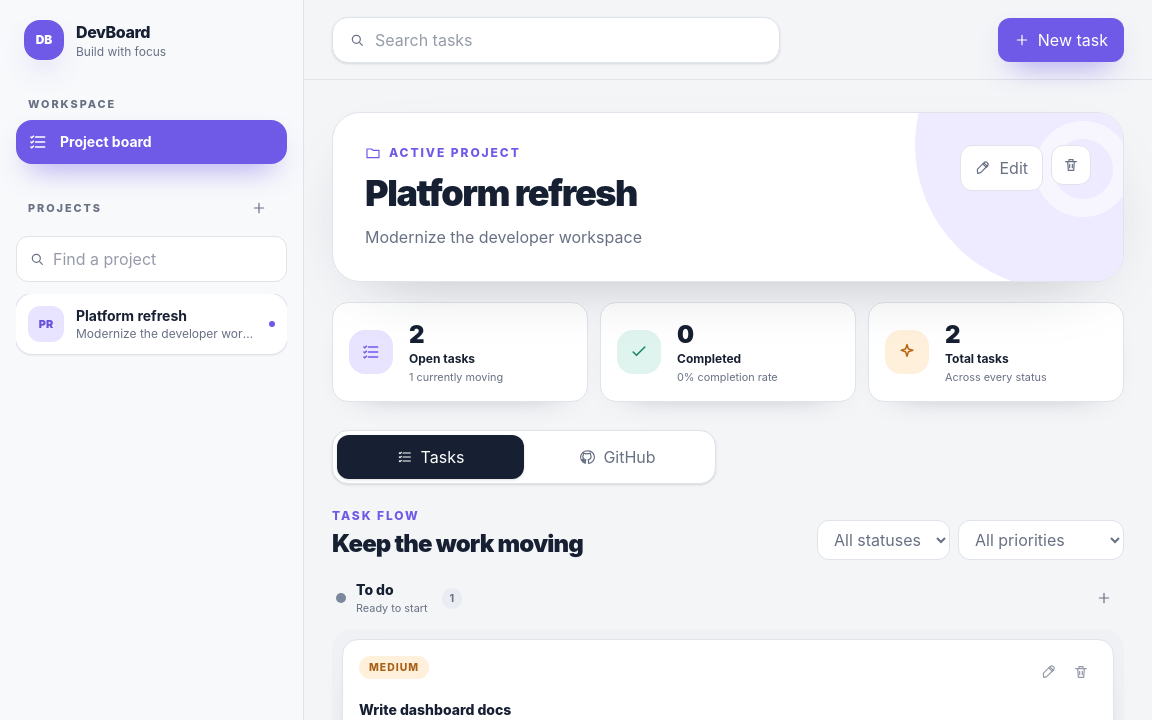
Test case: DevBoard dashboard › creates a task from the header action
The width and height of the screenshot is (1152, 720).
Expected: the heading "Platform refresh" is shown, [365,173,642,213]
Click the button "New task" at point(1061, 40), box [998,18,1124,62]
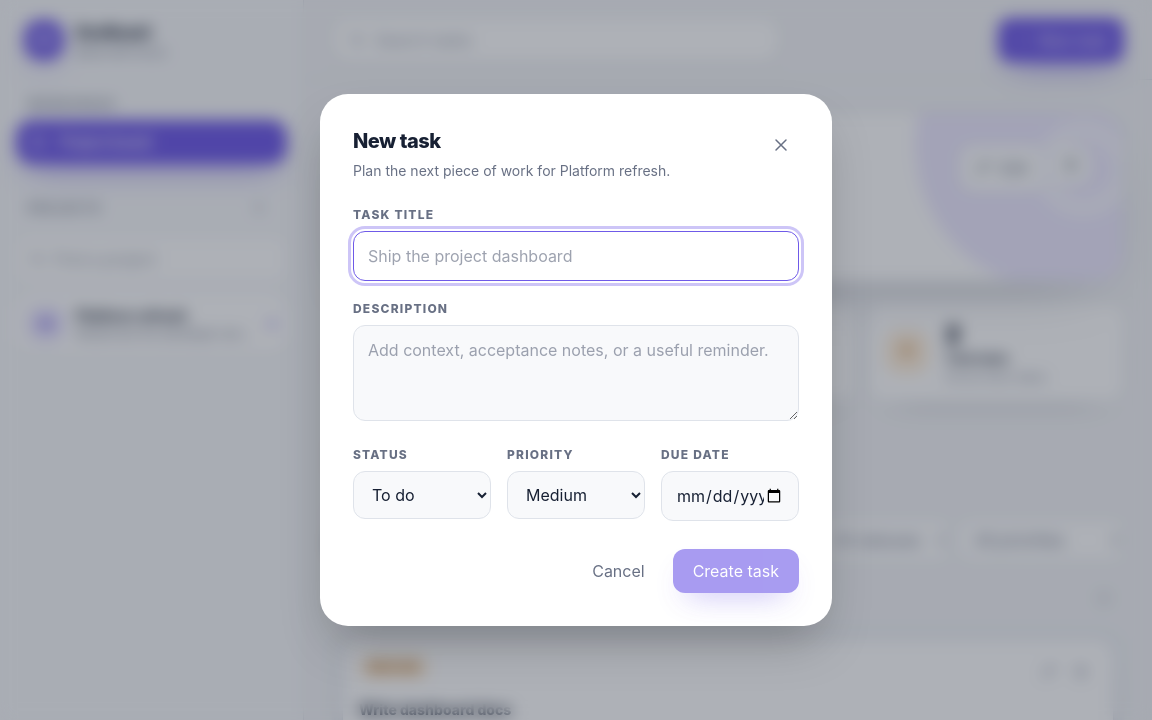
Type "Test the dashboard" into the field labelled "Task title" at point(576, 256), box [353,231,799,281]
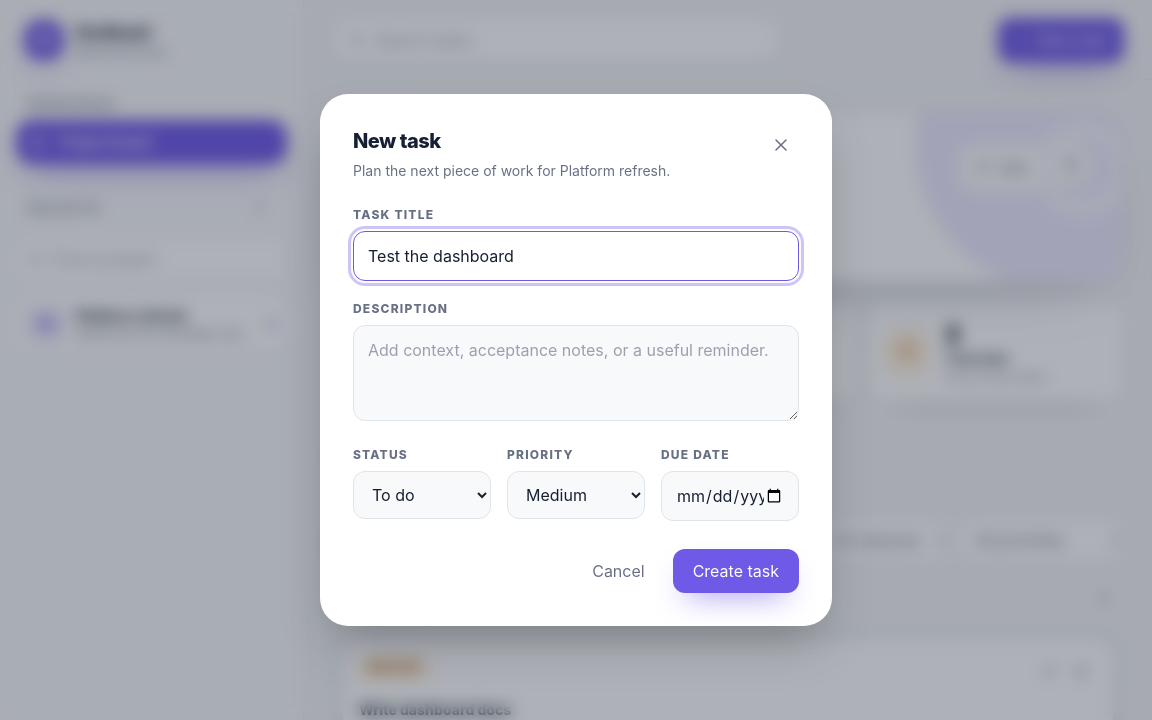
Click the button "Create task" at point(736, 571), box [673,549,799,593]
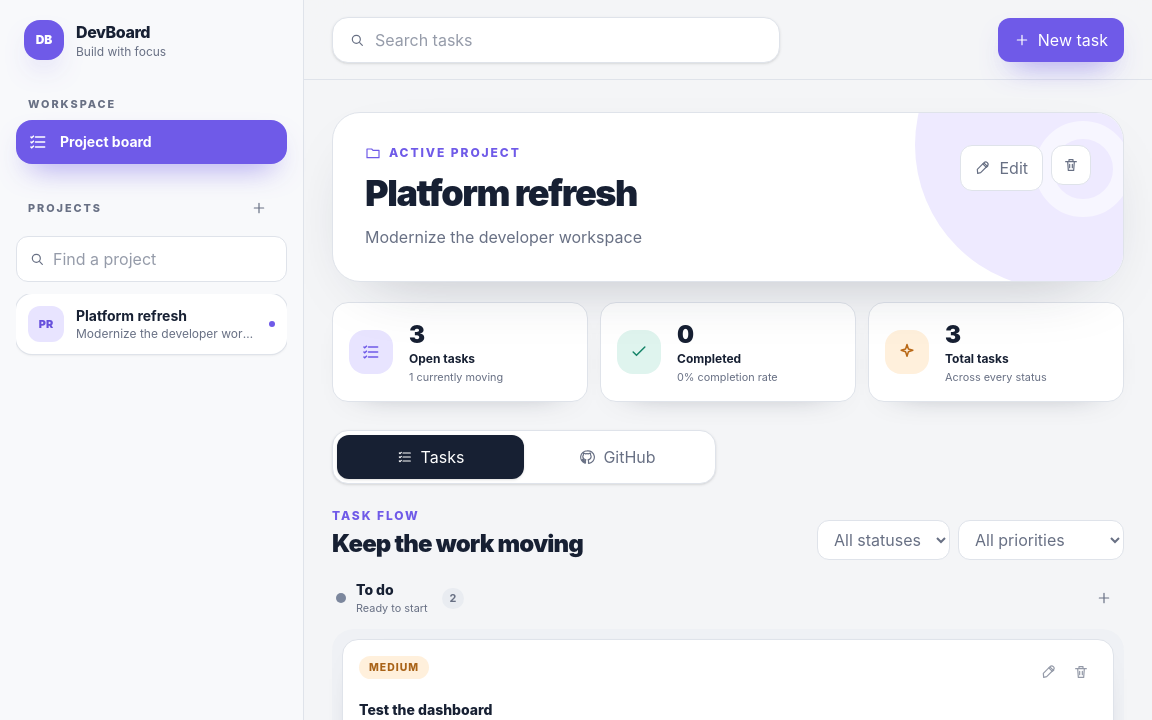
Now the heading "Test the dashboard" is shown, box [359,701,492,718]
